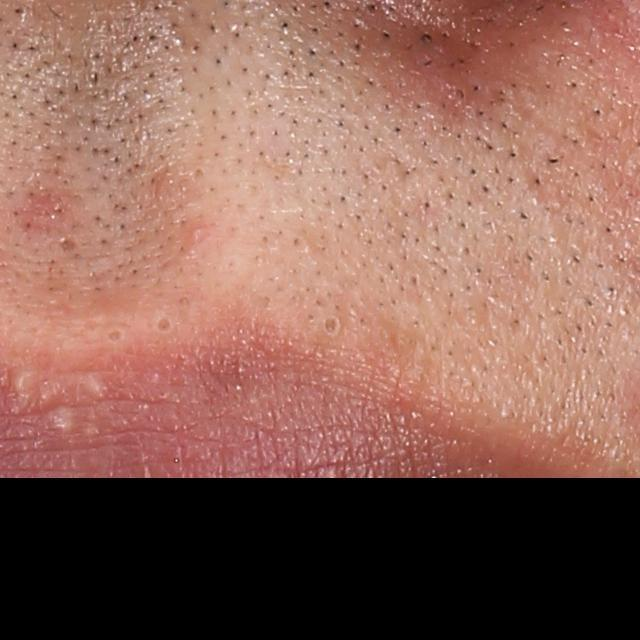comedo: (147, 310, 181, 340), (103, 325, 132, 350), (187, 224, 207, 245)
